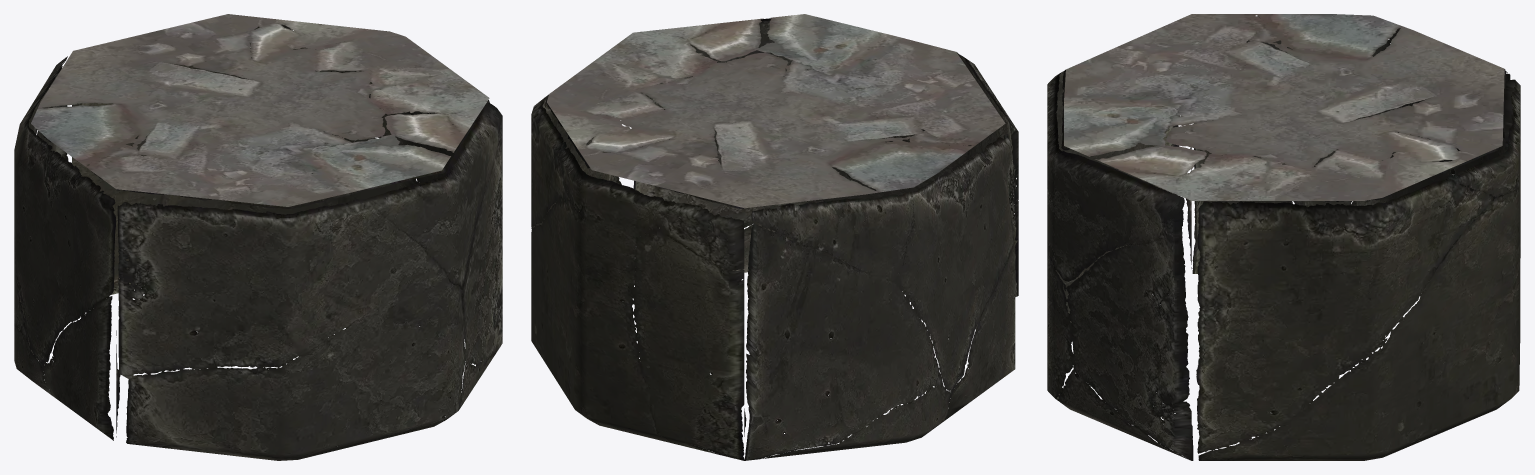
3 views of the same model, side by side, from view 1: azimuth 30°, elevation 25°; view 2: azimuth 150°, elevation 25°; view 3: azimuth 270°, elevation 25° (orthographic). The views are drawn at different scales.
Parts seen in each view (by area): view 1: SM_Greathall_Corner_Broken_02_LOD0; view 2: SM_Greathall_Corner_Broken_02_LOD0; view 3: SM_Greathall_Corner_Broken_02_LOD0.
Part boxes in pixels (<box>): SM_Greathall_Corner_Broken_02_LOD0: <box>14,14,502,460</box>; SM_Greathall_Corner_Broken_02_LOD0: <box>531,14,1018,460</box>; SM_Greathall_Corner_Broken_02_LOD0: <box>1047,14,1520,460</box>.
Size of the model in its own units: 2.86 by 1.73 by 2.85.
2 materials, 2 textured.
